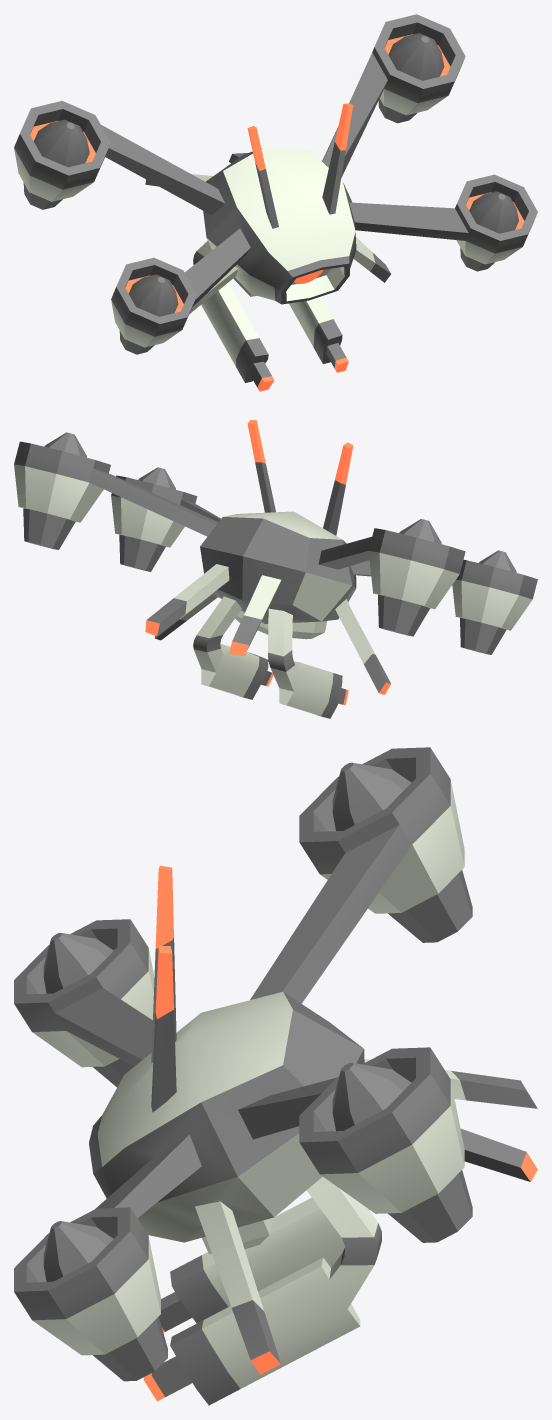
File: DroneMk2_IdleApplyRotation.fbx
3 views of the same model, one above another, from view 1: azimuth 30°, elevation 25°; view 2: azimuth 150°, elevation 25°; view 3: azimuth 270°, elevation 25° (orthographic). The views are drawn at different scales.
Parts seen in each view (by area): view 1: DroneMk2; view 2: DroneMk2; view 3: DroneMk2.
Boxes of the visible parts, x1=… form: DroneMk2: x1=14, y1=14, x2=537, y2=391; DroneMk2: x1=14, y1=420, x2=537, y2=718; DroneMk2: x1=14, y1=747, x2=537, y2=1405.
Size of the model in its own units: 286 by 170 by 174.
